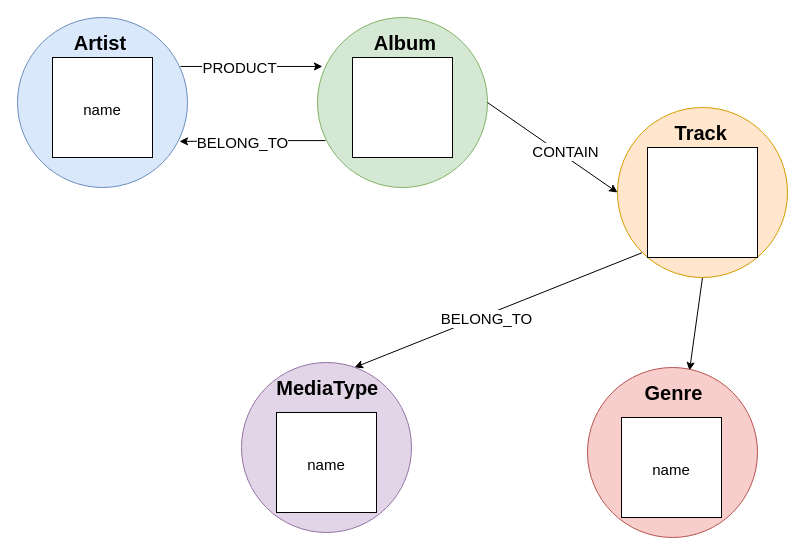
The diagram is 805 pixels wide and 555 high, and some of its shapes have lost their labels. The centre of each missing label's shape, as x and y in pixels:
"name composer Milliseconds Bytes UnitPrice" belongs at point 702,202.
"Title" belongs at point 402,107.
